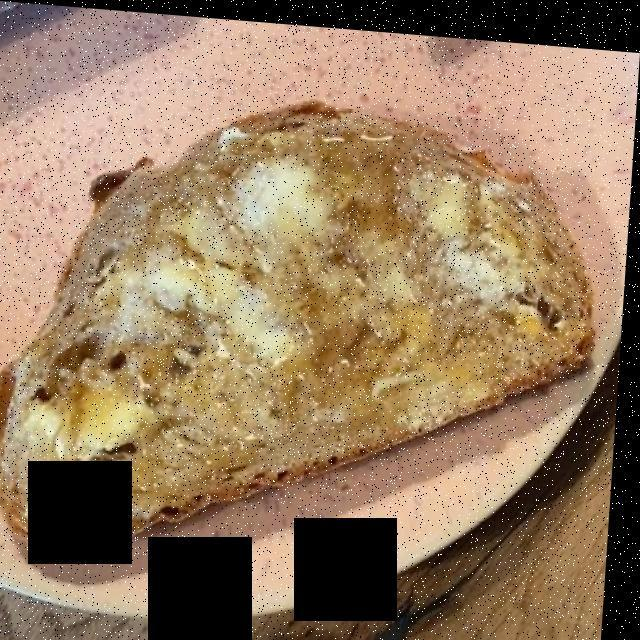bread: (0, 96, 586, 555)
honey: (70, 188, 553, 494)
